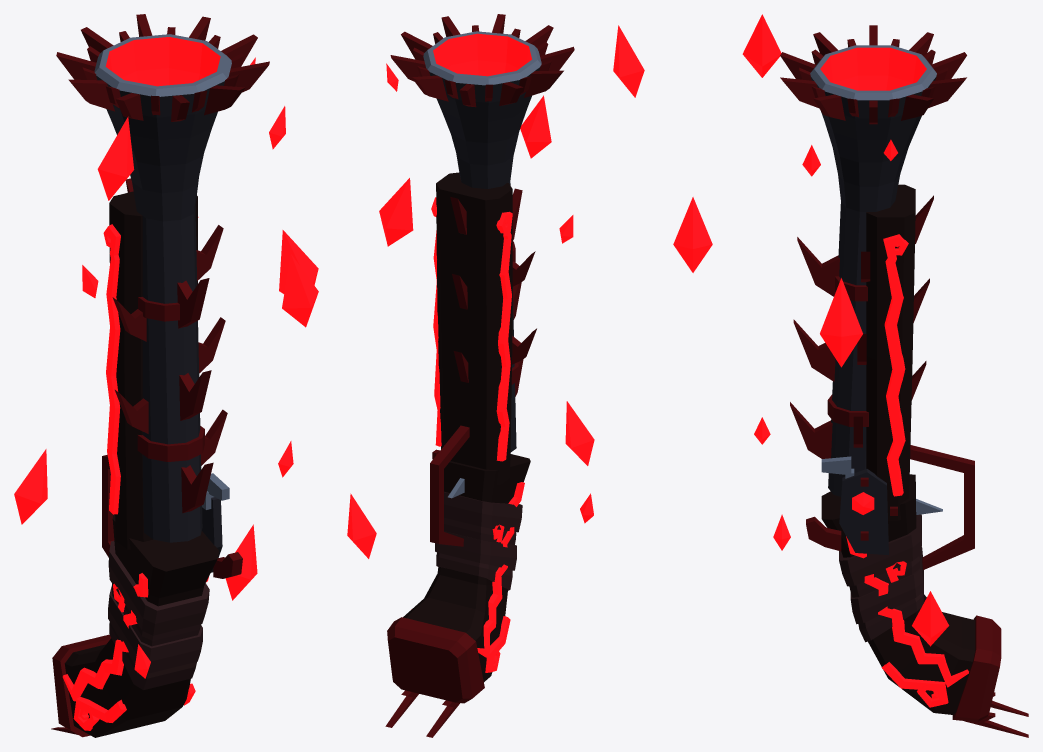
The model's file is gun_mythic.glb.
The picture shows the model from 3 angles, left to right: view 1: azimuth 30°, elevation 25°; view 2: azimuth 150°, elevation 25°; view 3: azimuth 270°, elevation 25°; orthographic projection. The views are drawn at different scales.
Visible parts, largest first — view 1: gun_mythic; view 2: gun_mythic; view 3: gun_mythic.
Boxes of the visible parts, x1,y1,x2,y2 form: gun_mythic: (14, 14, 318, 737); gun_mythic: (347, 14, 644, 737); gun_mythic: (673, 14, 1028, 737).
Bounding box in the file's own units: 58.77 × 149 × 71.86.
